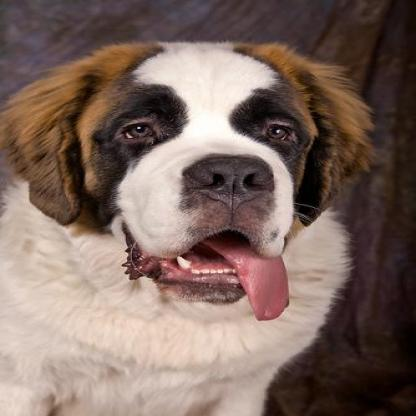Saint_Bernard: (0, 40, 374, 414)
